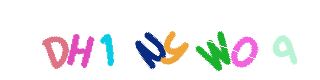0: (176, 0, 256, 80)
1: (110, 0, 190, 80)
9: (203, 0, 283, 80)
D: (22, 0, 102, 80)
H: (68, 0, 148, 80)
N: (119, 0, 199, 80)
W: (133, 0, 213, 80)
Y: (119, 0, 199, 80)
